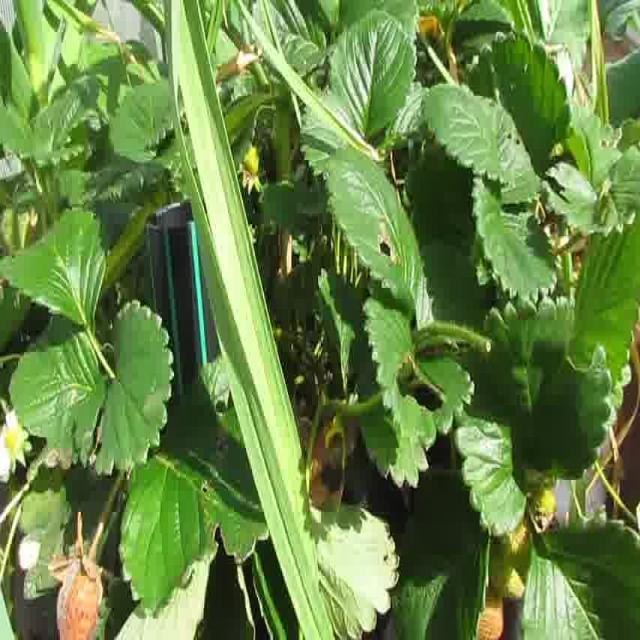Moho gris: (53, 546, 108, 640)
